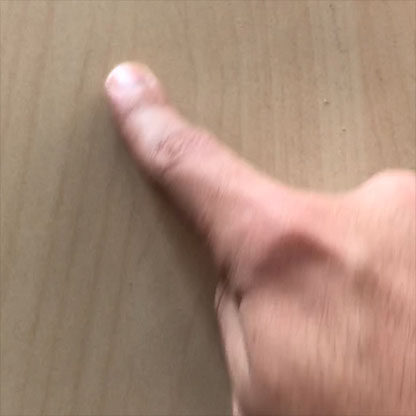fingertip: (98, 52, 169, 111)
